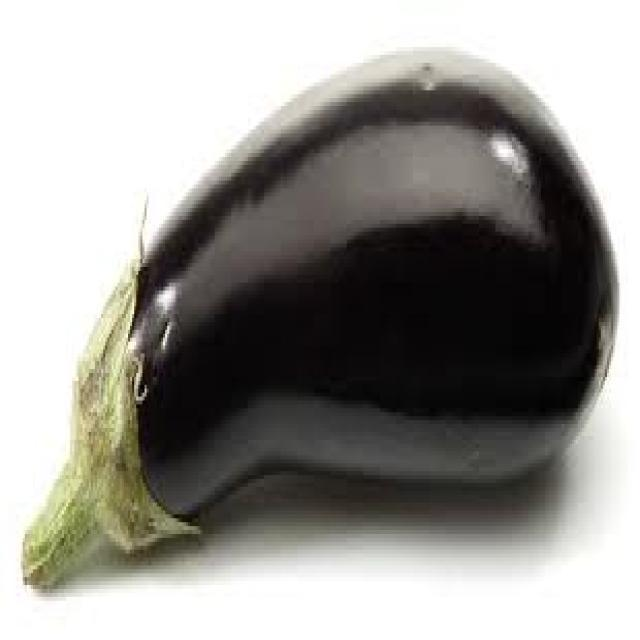Aubergine: (16, 19, 630, 604)
